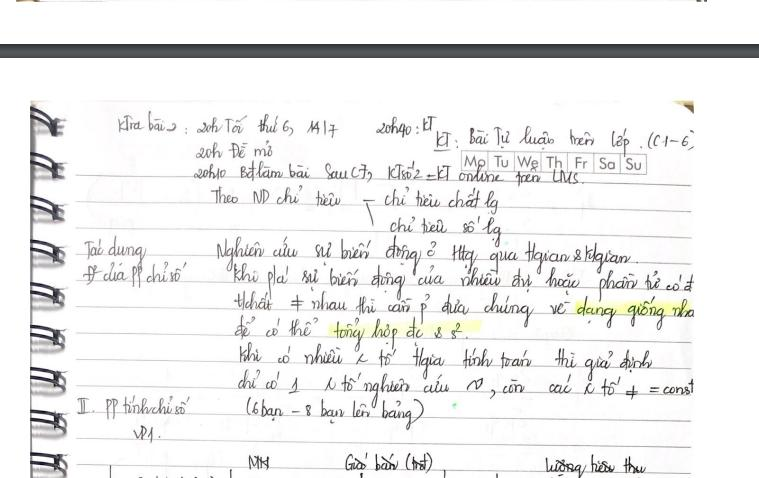text: (236, 367, 697, 409), (232, 261, 696, 302), (233, 291, 696, 331), (237, 341, 655, 384), (215, 236, 640, 276), (191, 159, 584, 189), (232, 314, 469, 353), (433, 127, 696, 152), (244, 396, 426, 432), (116, 110, 340, 139), (388, 215, 503, 249), (383, 188, 499, 216), (81, 260, 187, 290), (75, 394, 191, 421), (208, 184, 342, 207), (463, 154, 643, 171), (543, 451, 649, 477), (81, 234, 148, 269), (343, 450, 434, 474), (194, 139, 274, 162), (374, 114, 439, 140), (131, 424, 156, 444), (246, 454, 271, 473)
